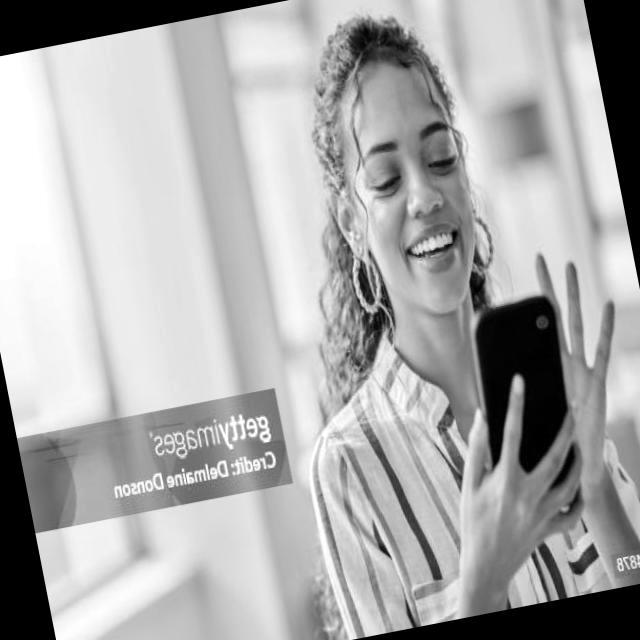phone: (461, 291, 594, 525)
